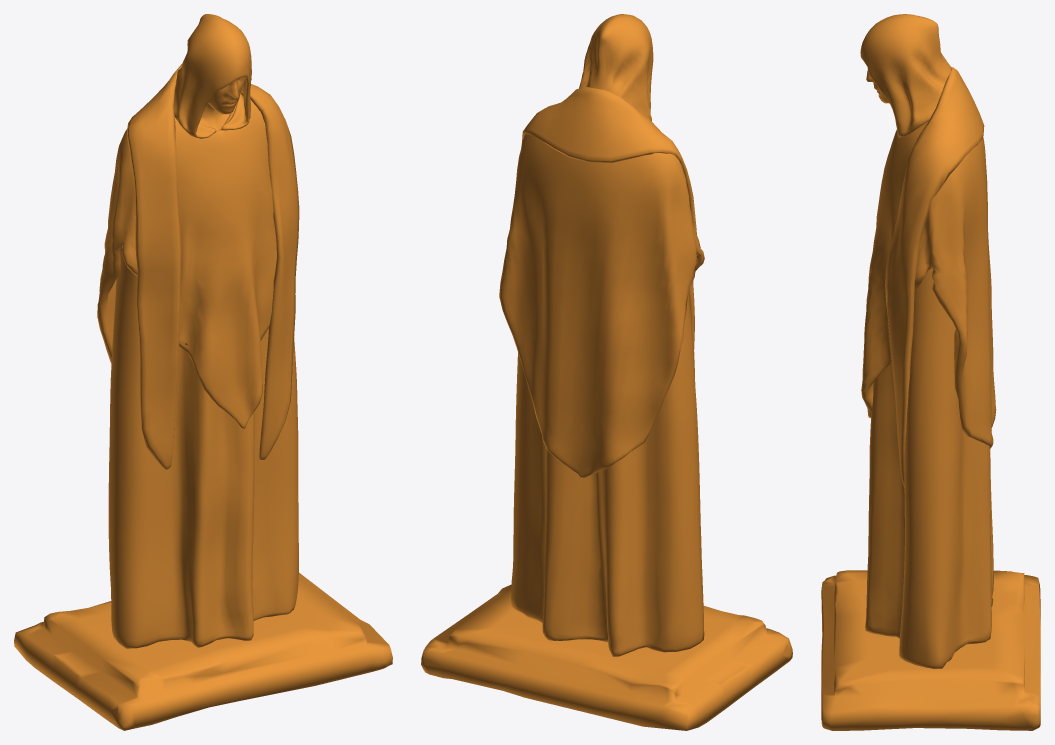
File: statue model.fbx
3 renders of one model, left to right at view 1: azimuth 30°, elevation 25°; view 2: azimuth 150°, elevation 25°; view 3: azimuth 270°, elevation 25°, orthographic.
Parts seen in each view (by area): view 1: robe, cape, plateform, scarf, Hood, head; view 2: cape, robe, plateform, scarf, Hood; view 3: robe, plateform, cape, scarf, Hood.
Part boxes in pixels (bbox=[...]): robe: bbox=[108, 249, 298, 648]; cape: bbox=[97, 99, 276, 428]; plateform: bbox=[14, 572, 392, 730]; scarf: bbox=[127, 63, 299, 469]; Hood: bbox=[173, 14, 251, 138]; head: bbox=[199, 77, 245, 130]; cape: bbox=[499, 134, 704, 478]; robe: bbox=[511, 291, 704, 656]; plateform: bbox=[421, 584, 792, 730]; scarf: bbox=[522, 87, 696, 374]; Hood: bbox=[579, 14, 653, 121]; robe: bbox=[865, 268, 993, 669]; plateform: bbox=[821, 570, 1040, 730]; cape: bbox=[861, 121, 996, 448]; scarf: bbox=[885, 67, 984, 487]; Hood: bbox=[860, 14, 951, 137].
Size of the model in its own units: 112 by 257 by 78.48.
